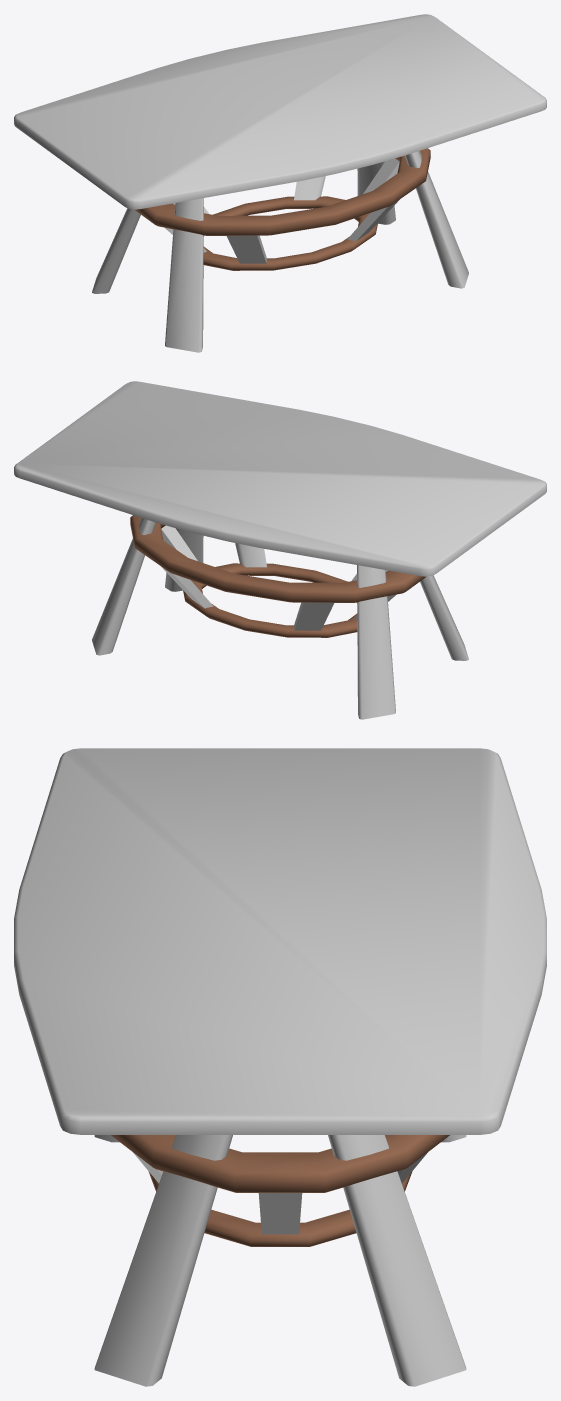
The model's file is Luxury-Table-1.fbx.
3 views of the same model, one above another, from view 1: azimuth 30°, elevation 25°; view 2: azimuth 150°, elevation 25°; view 3: azimuth 270°, elevation 25° (orthographic). The views are drawn at different scales.
Visible parts, largest first — view 1: Luxury-Table-1; view 2: Luxury-Table-1; view 3: Luxury-Table-1.
Part boxes in pixels (x1=…): Luxury-Table-1: x1=14, y1=14, x2=546, y2=352; Luxury-Table-1: x1=14, y1=381, x2=546, y2=719; Luxury-Table-1: x1=14, y1=748, x2=546, y2=1386.
Bounding box in the file's own units: 2 × 0.8 × 1.21.
